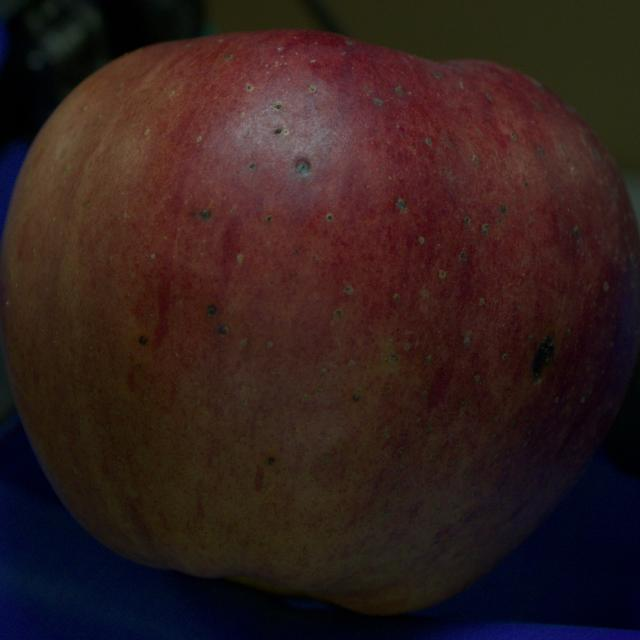apple: (0, 31, 639, 613)
pest: (532, 336, 554, 379), (296, 161, 308, 174), (207, 304, 217, 316), (218, 325, 228, 335), (200, 210, 209, 219), (139, 336, 147, 345), (275, 129, 281, 134)
